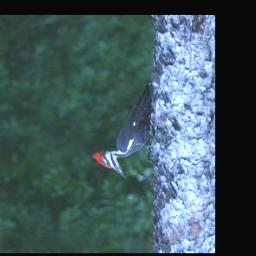Woodpecker: (94, 79, 156, 182)
